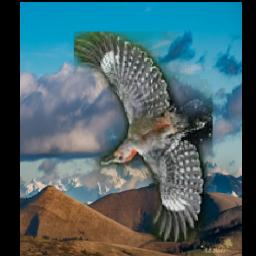Woodpecker: (74, 33, 213, 243)
